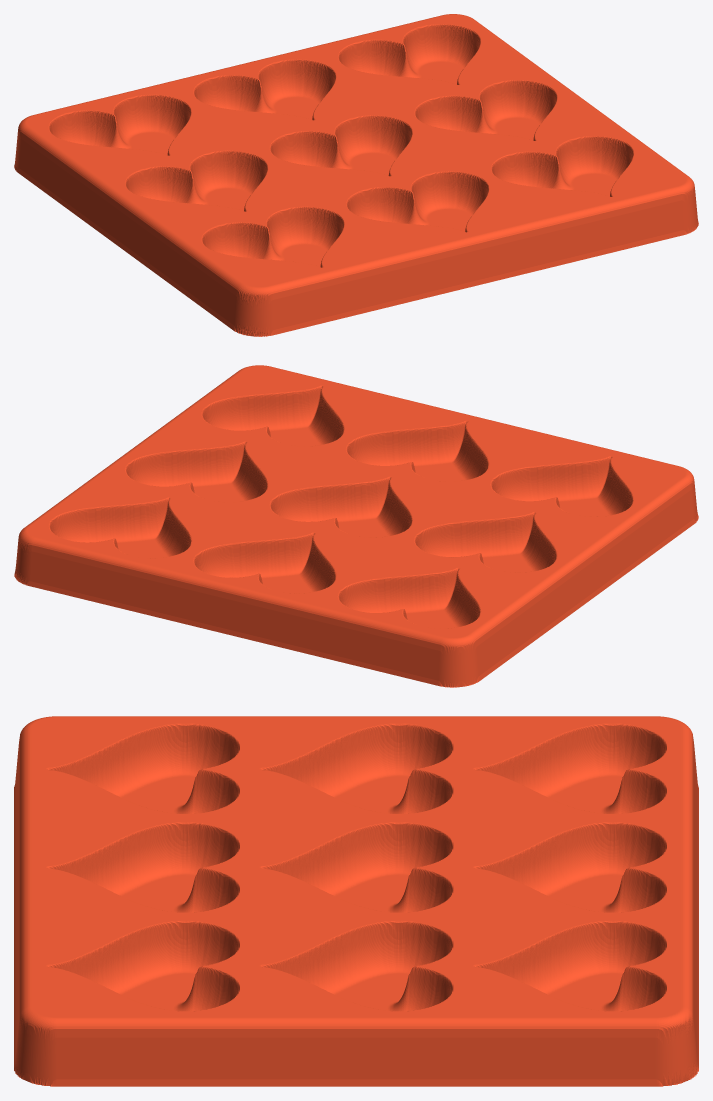
Rendered from mold.glb.
The picture shows the model from 3 angles, top to bottom: view 1: azimuth 30°, elevation 25°; view 2: azimuth 150°, elevation 25°; view 3: azimuth 270°, elevation 25°; orthographic projection. The views are drawn at different scales.
Visible parts, largest first — view 1: geometry_0; view 2: geometry_0; view 3: geometry_0.
Boxes of the visible parts, box(x1,y1,x2,y2) form: geometry_0: box(14, 14, 698, 336); geometry_0: box(14, 365, 698, 687); geometry_0: box(14, 716, 698, 1086).
Bounding box in the file's own units: 0.1579 × 0.0145 × 0.1453.
